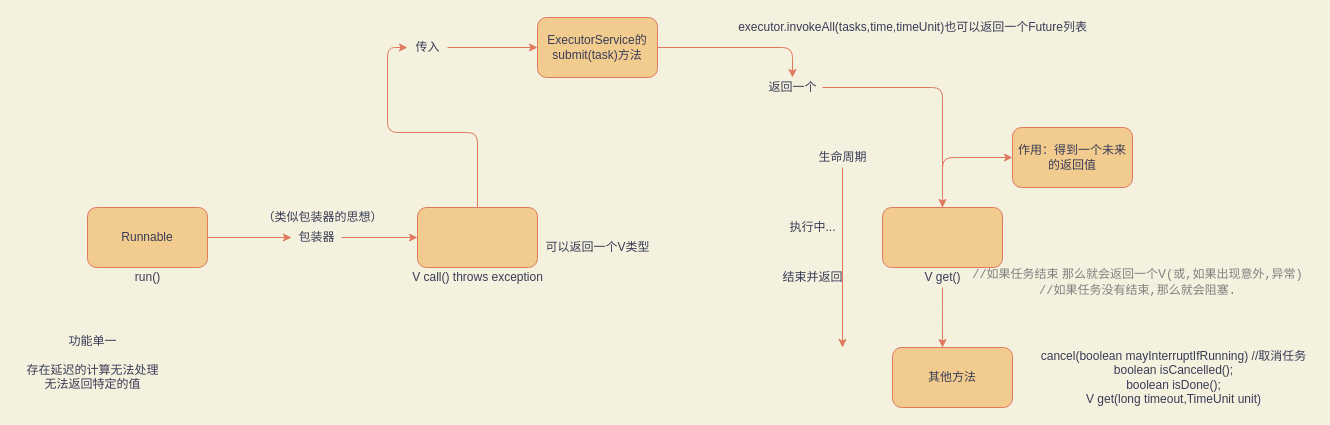
Image size: 1330x425. Some labels were removed from this diagram. Here are the shapes that lost their labels. From the top down, the centre of each, then its label:
At pixel 477 237: "Callable<V>".
At pixel 942 237: "Future<V>".
